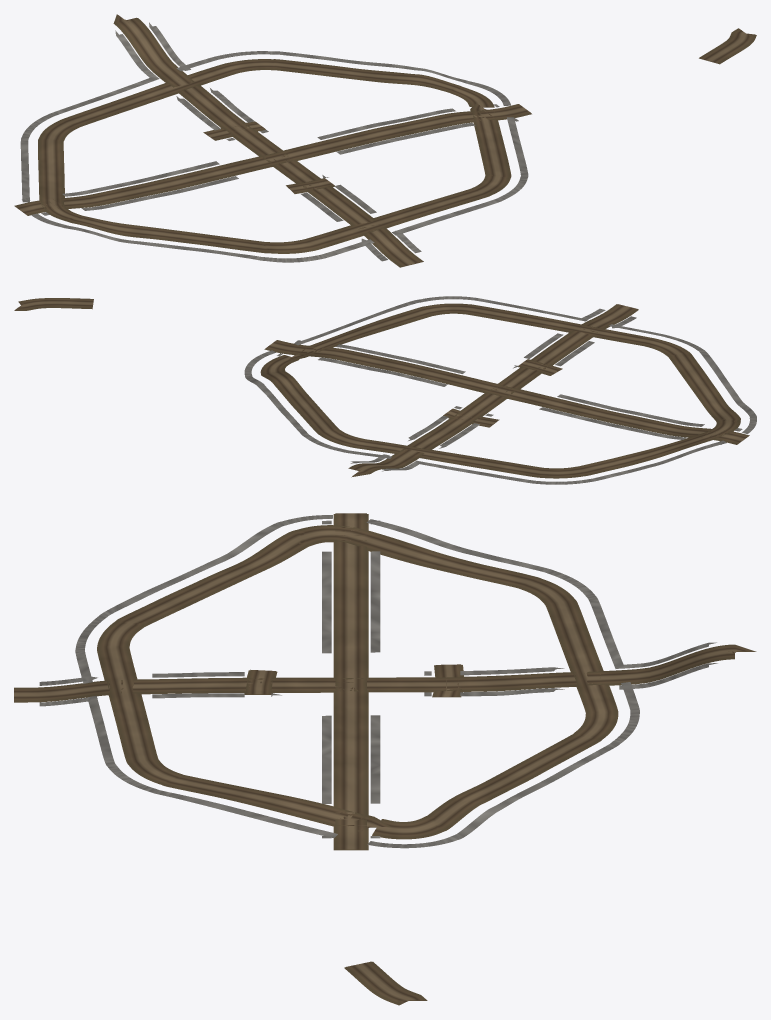
The model's file is Roads_P1.fbx.
3 renders of one model, top to bottom at view 1: azimuth 30°, elevation 25°; view 2: azimuth 150°, elevation 25°; view 3: azimuth 270°, elevation 25°, orthographic. The views are drawn at different scales.
Visible parts, largest first — view 1: Road.Ring, Road.Y, Road.X, Walk.Ring0, Road.Ring.shoulder, Road.X.shoulder, Road.Y.shoulder, Road.Port, Walk.XWI, Walk.XWI.001, Walk.XEI, Walk.XEI.001; view 2: Road.Ring, Road.X, Road.Y, Walk.Ring0, Road.Ring.shoulder, Road.X.shoulder, Road.Port, Road.Y.shoulder, Walk.XWI.001, Walk.XWI, Walk.XEI, Walk.XEI.001 (+1 smaller); view 3: Road.Ring, Road.X, Road.Y, Walk.Ring0, Road.Ring.shoulder, Road.X.shoulder, Road.Y.shoulder, Road.Port, Walk.XWI, Walk.XWI.001, Walk.XEI, Walk.XEI.001.
Part boxes in pixels (box(x1,y1,x2,y2)): Road.Ring: box(39, 59, 509, 252); Road.Y: box(115, 14, 422, 266); Road.X: box(15, 104, 531, 214); Walk.Ring0: box(20, 51, 528, 262); Road.Ring.shoulder: box(38, 59, 511, 253); Road.X.shoulder: box(14, 104, 531, 215); Road.Y.shoulder: box(113, 14, 423, 267); Road.Port: box(700, 28, 755, 63); Walk.XWI: box(62, 161, 219, 196); Walk.XWI.001: box(81, 176, 238, 210); Walk.XEI: box(317, 108, 455, 139); Walk.XEI.001: box(337, 122, 475, 154); Road.Ring: box(262, 303, 739, 477); Road.X: box(265, 340, 748, 443); Road.Y: box(349, 304, 637, 476); Walk.Ring0: box(244, 296, 756, 484); Road.Ring.shoulder: box(260, 303, 740, 478); Road.X.shoulder: box(264, 340, 749, 444); Road.Port: box(15, 298, 93, 310); Road.Y.shoulder: box(348, 304, 638, 477); Walk.XWI.001: box(557, 394, 704, 426); Walk.XWI: box(539, 407, 686, 439); Walk.XEI: box(318, 357, 447, 386); Walk.XEI.001: box(336, 344, 465, 373); Road.Ring: box(98, 525, 616, 837); Road.X: box(335, 513, 366, 849); Road.Y: box(14, 644, 753, 701); Walk.Ring0: box(75, 515, 639, 848); Road.Ring.shoulder: box(97, 525, 618, 839); Road.X.shoulder: box(333, 514, 368, 850); Road.Y.shoulder: box(14, 644, 756, 702); Road.Port: box(345, 961, 425, 1004); Walk.XWI: box(370, 551, 380, 652); Walk.XWI.001: box(322, 551, 331, 653); Walk.XEI: box(370, 715, 380, 803); Walk.XEI.001: box(322, 715, 331, 803).
Bounding box in the file's own units: 29940 × 1457 × 20279.
